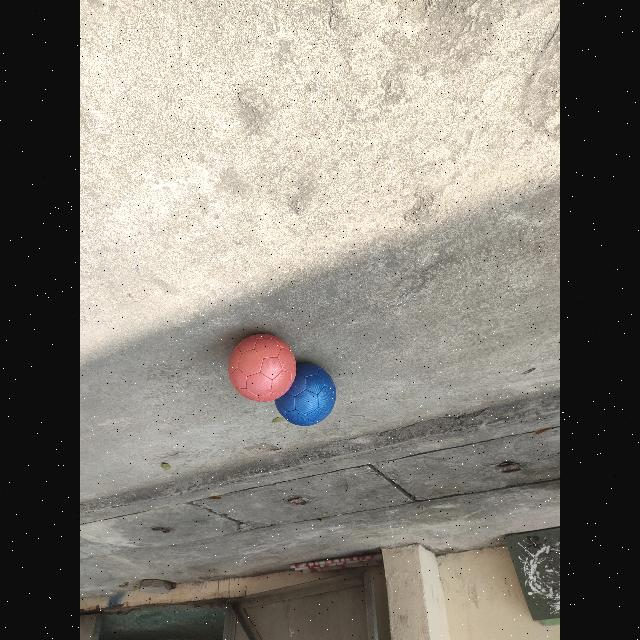B: (274, 359, 338, 425)
R: (227, 331, 297, 402)
